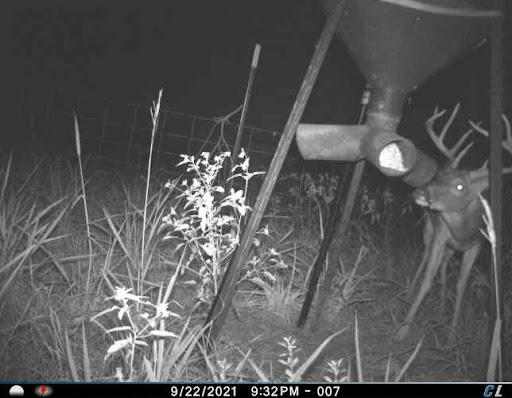Deer: (409, 99, 512, 344)
